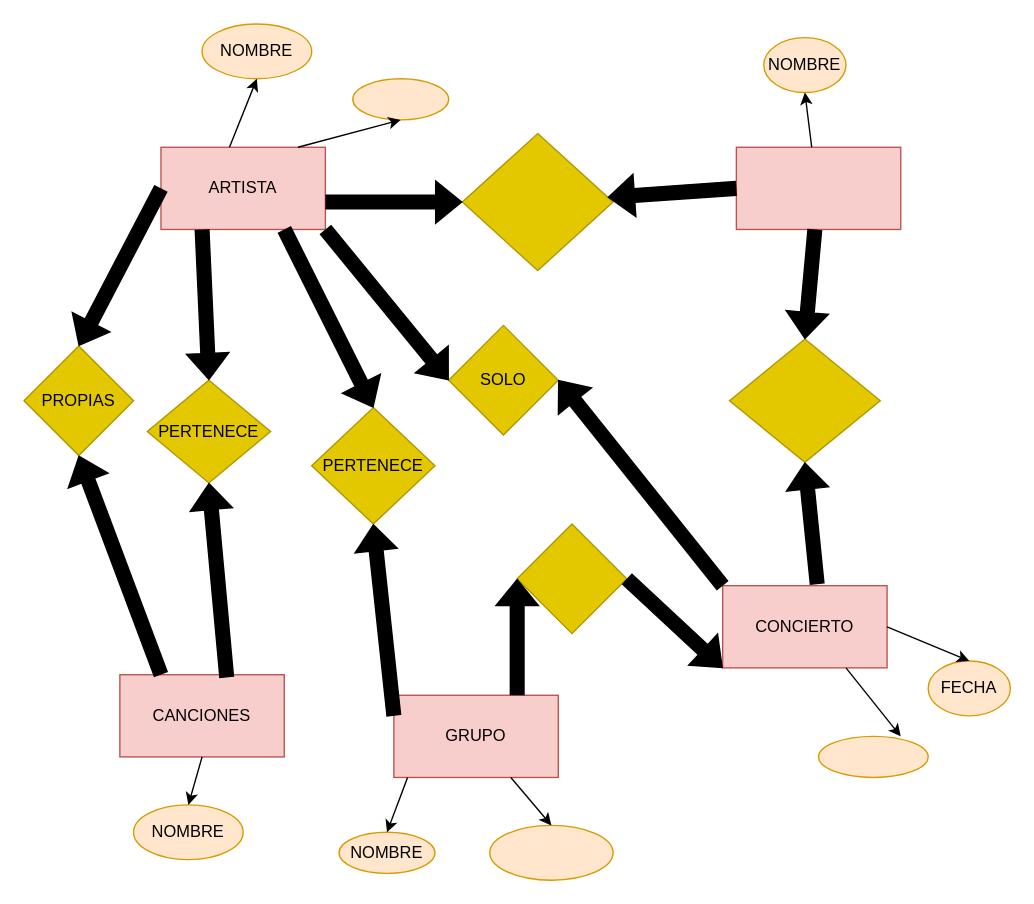
The diagram is 1034 pixels wide and 904 high, and some of its shapes have lost their labels. Each missing label, with the centre of its shape:
ARTISTAS QUE LO FORMAN: pixel 550 852
CONCIERTOS QUE LA FORMAN: pixel 804 400
EDAD: pixel 400 98
GIRA: pixel 818 187
GIRA PROGRAMADA: pixel 537 201
ORGANIZAN: pixel 571 578
UBICACION: pixel 872 756
